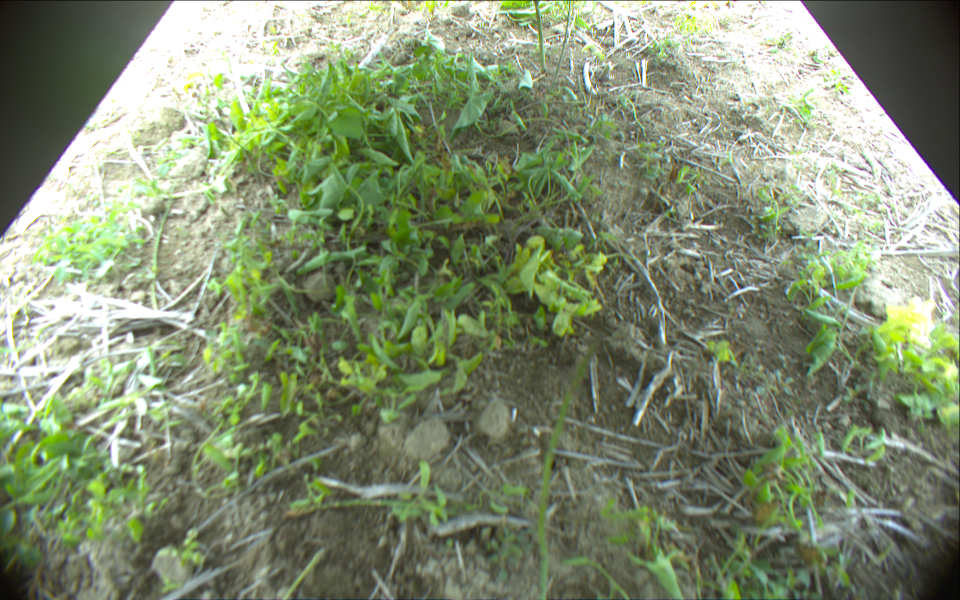aspa: (534, 348, 592, 599), (293, 498, 446, 519), (152, 190, 175, 271), (554, 1, 574, 74), (534, 1, 548, 71)
